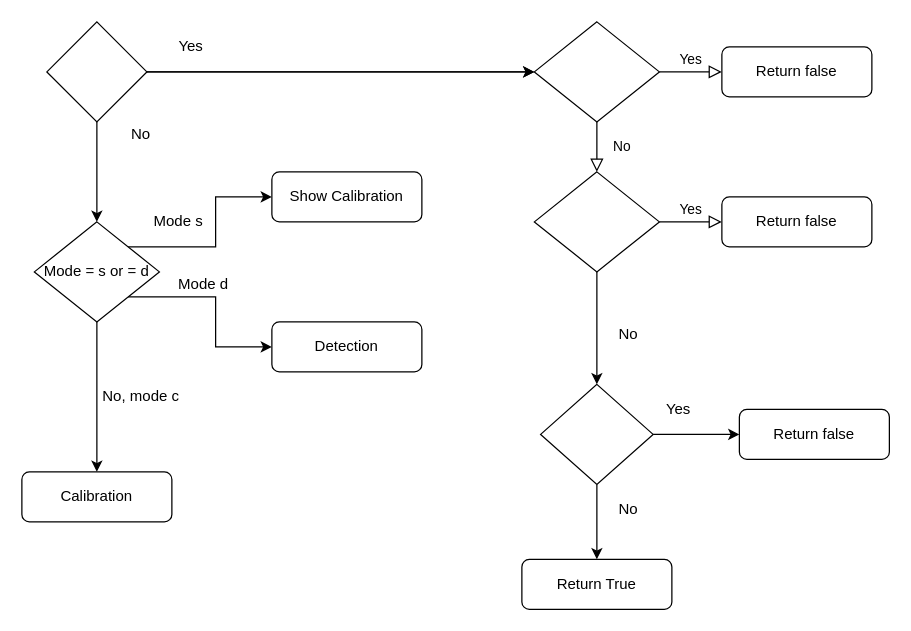
This 911x631 diagram has some shape labels left out. Each missing label, with the centre of its shape:
"Can't open file?" goes at (596,433).
"Invalid argc" goes at (596,71).
"Invalid mode" goes at (596,221).
"Wrong input?" goes at (96,71).
